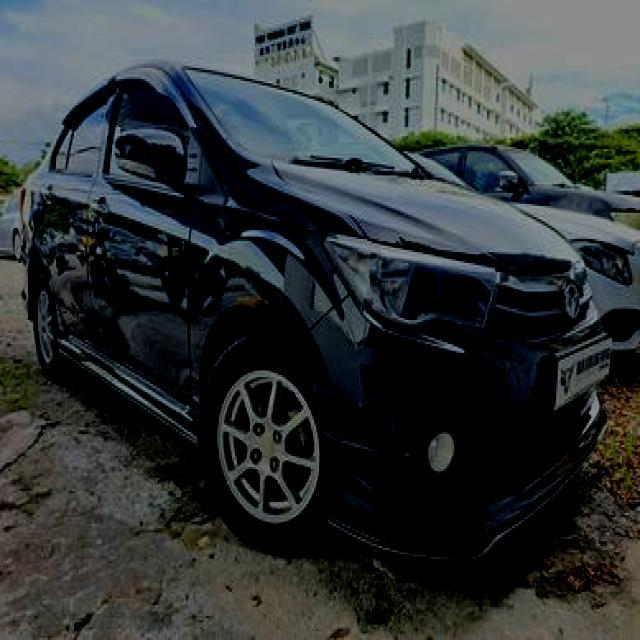PeroduaBezza: (13, 59, 614, 568)
